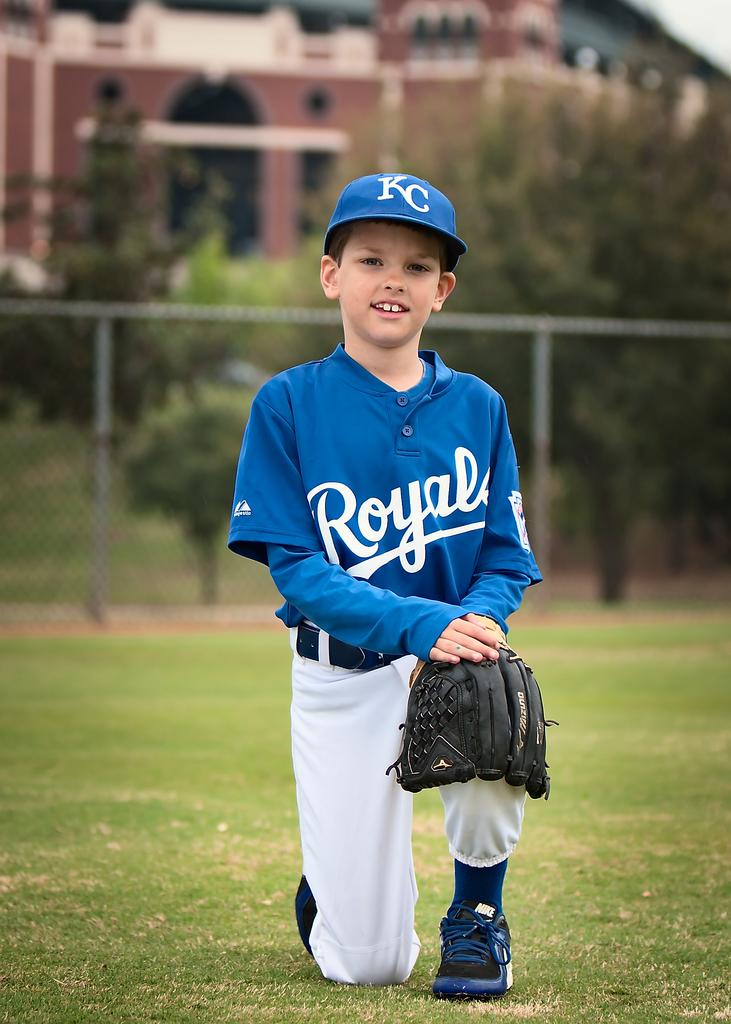Hat: (324, 168, 465, 268)
